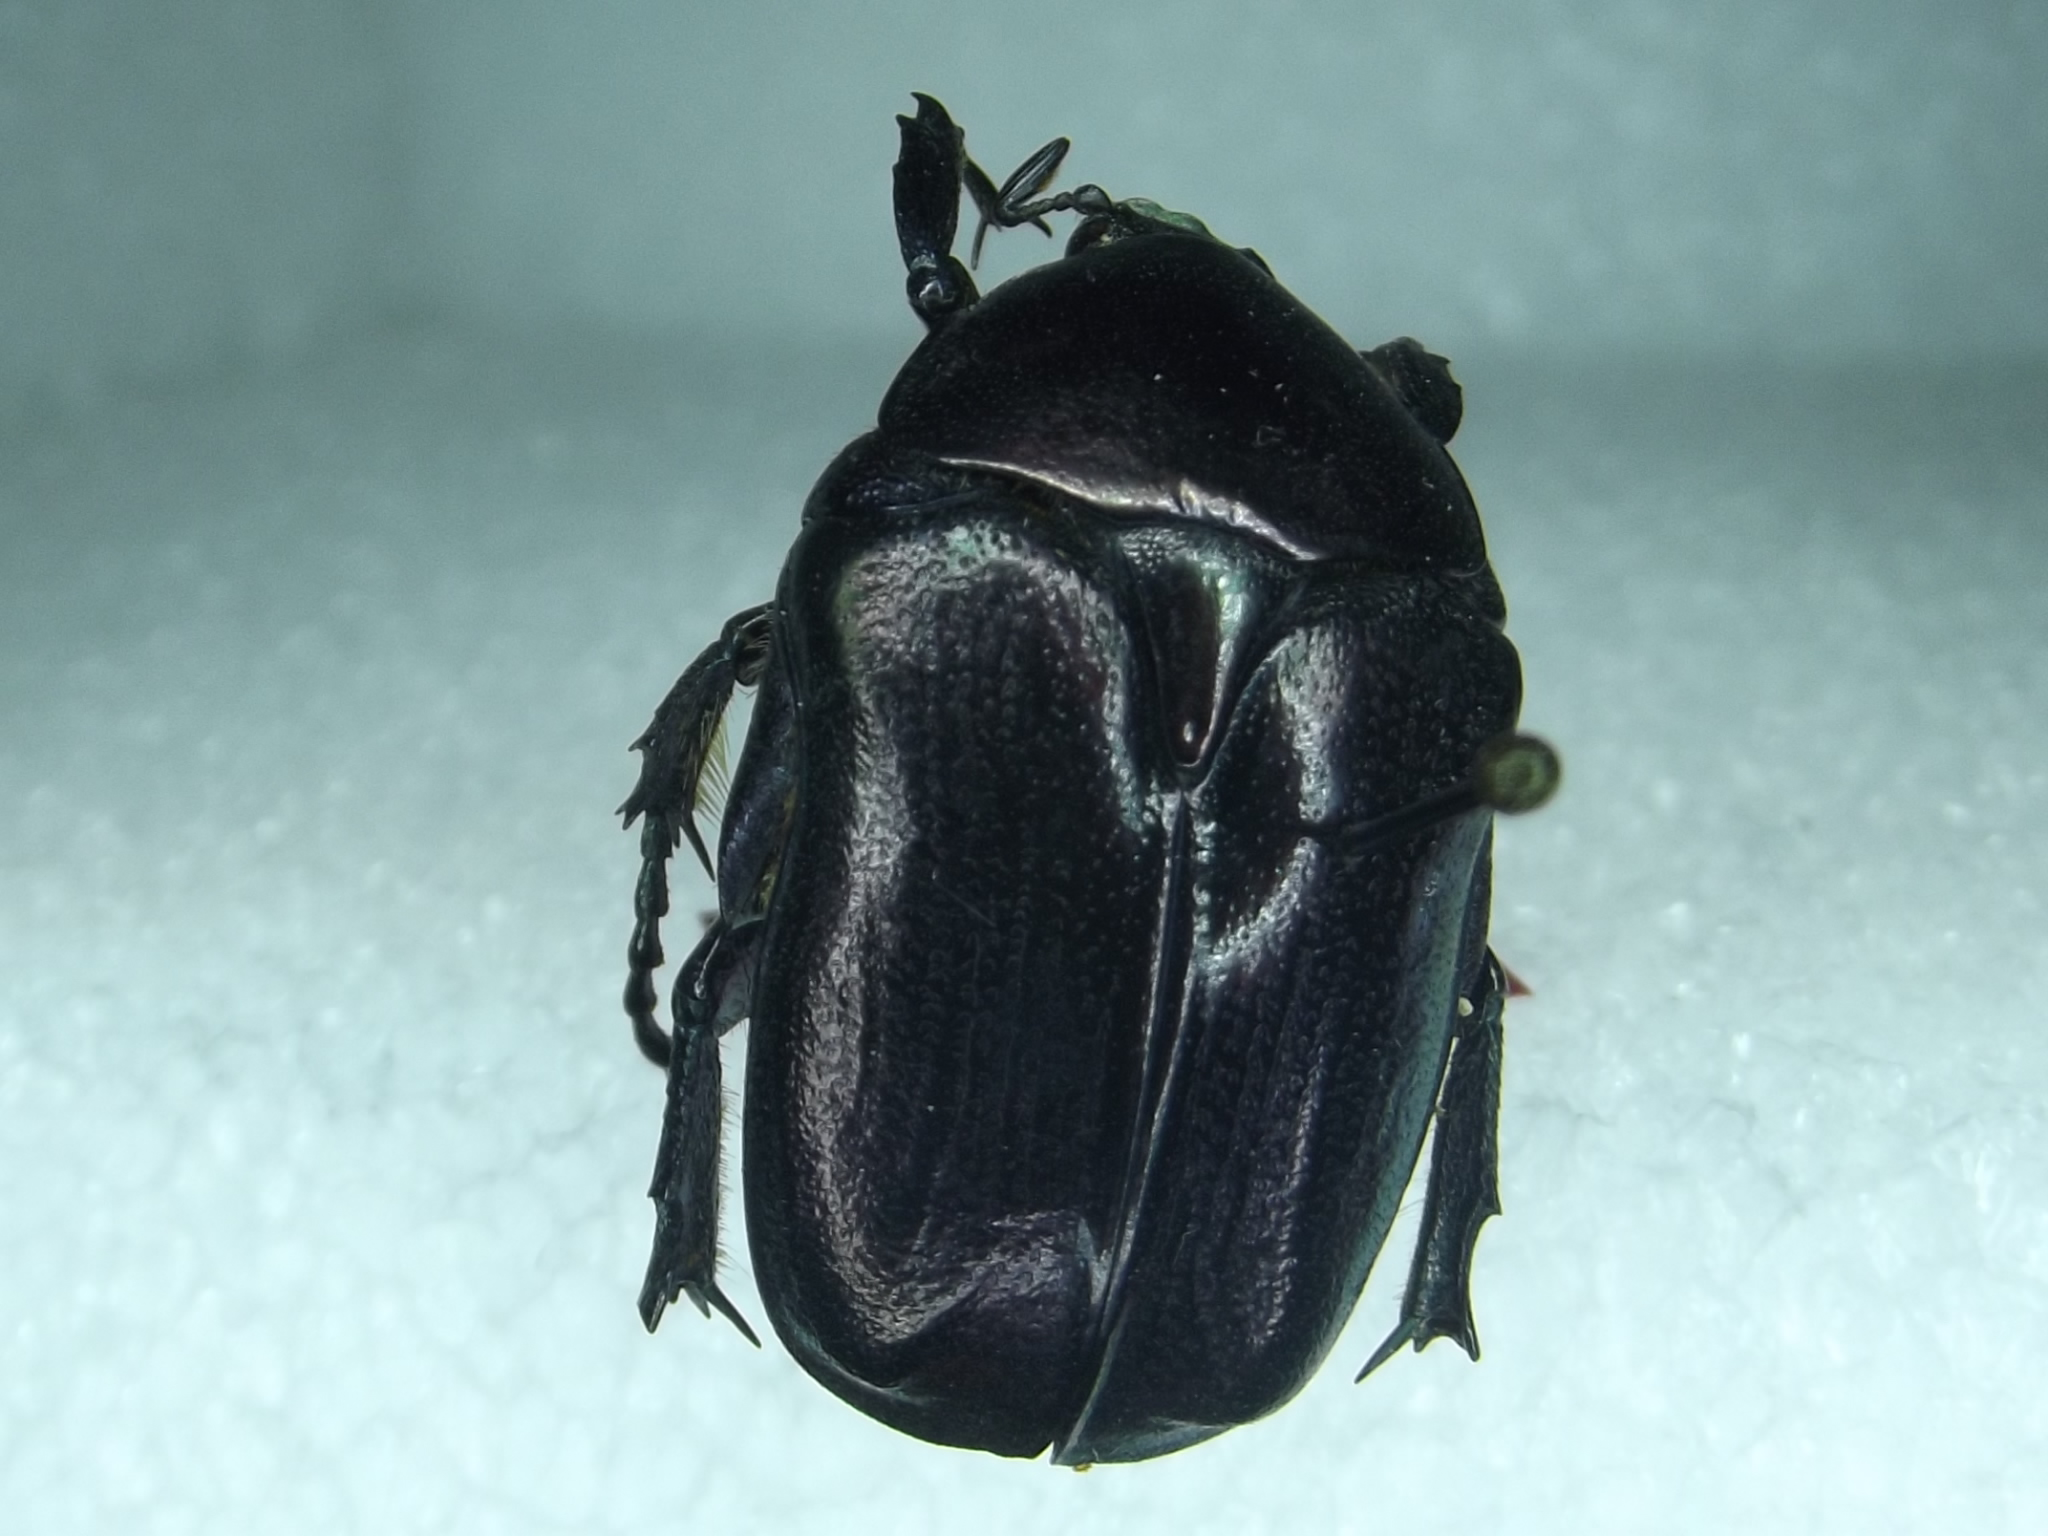Protaetia_besucheti: (605, 94, 1555, 1468)
